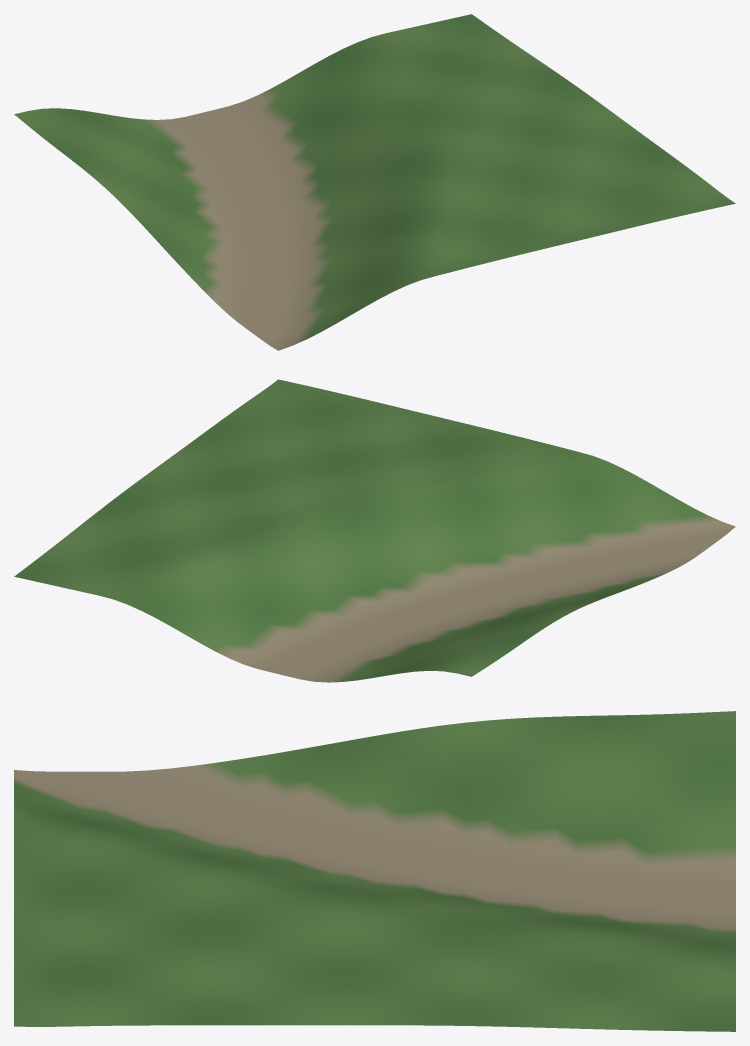
Rendered from chunk_5_11.glb.
The picture shows the model from 3 angles, top to bottom: view 1: azimuth 30°, elevation 25°; view 2: azimuth 150°, elevation 25°; view 3: azimuth 270°, elevation 25°; orthographic projection. The views are drawn at different scales.
Size of the model in its own units: 512 by 47.42 by 512.
